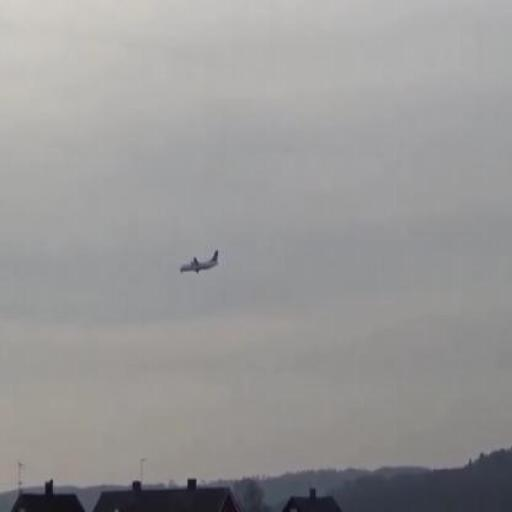aircraft: (181, 250, 221, 276)
